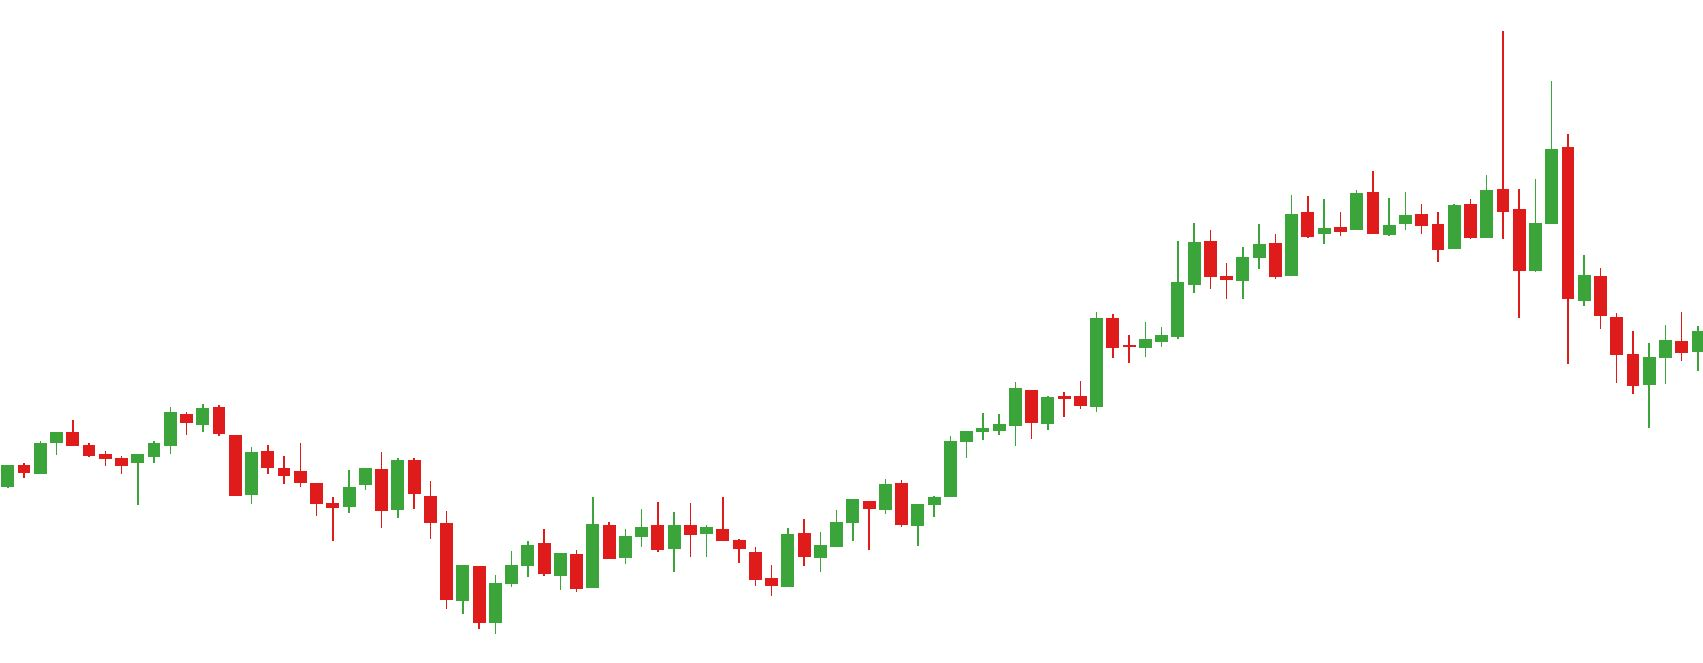buy: (664, 522, 797, 597)
